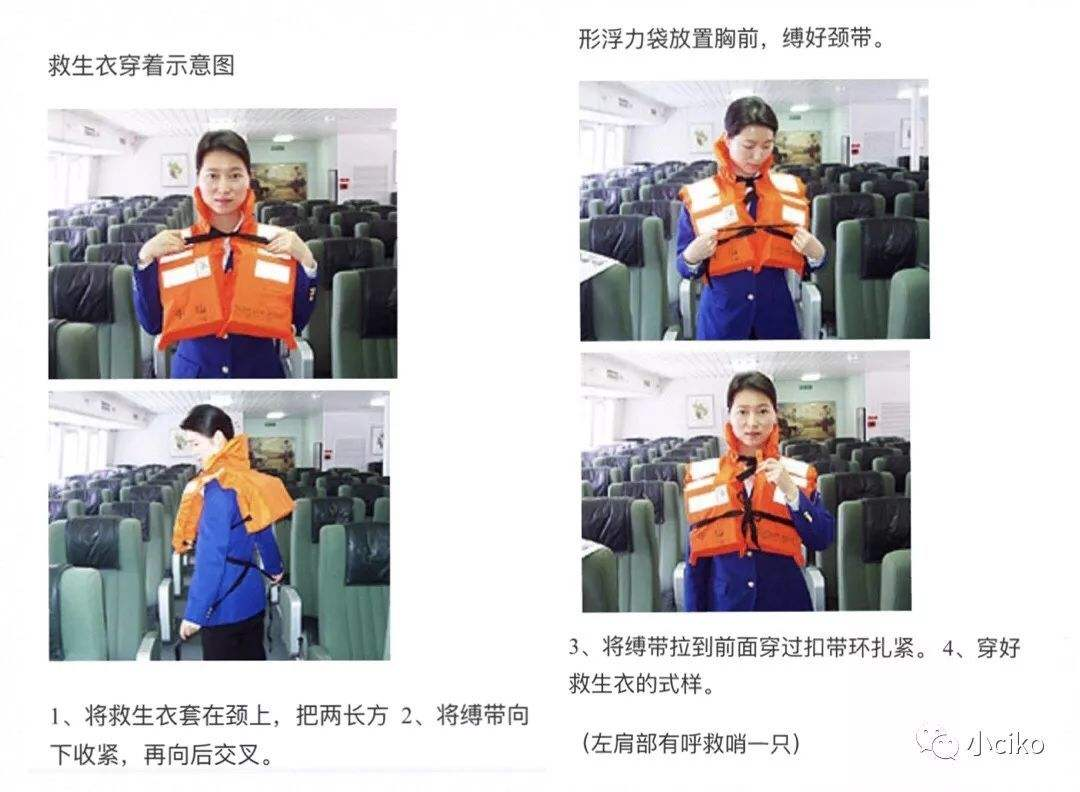reflective_clothes: (149, 181, 311, 357), (678, 429, 815, 577), (683, 146, 818, 287), (161, 444, 295, 578)
